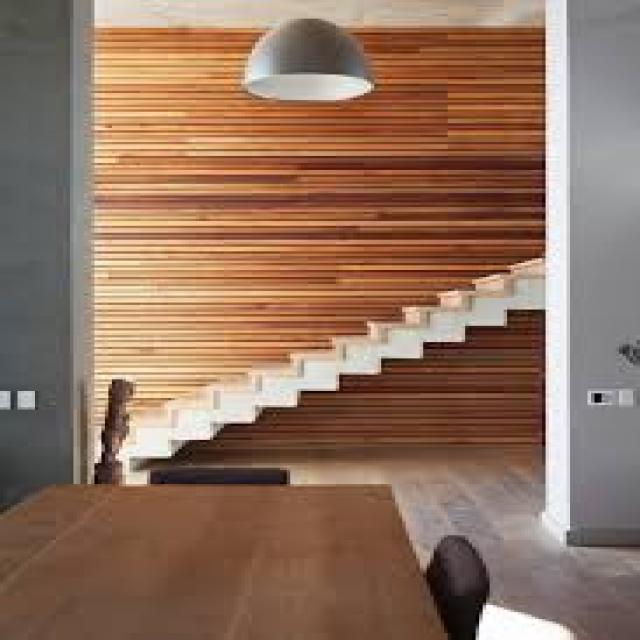stairs: (125, 253, 546, 468)
